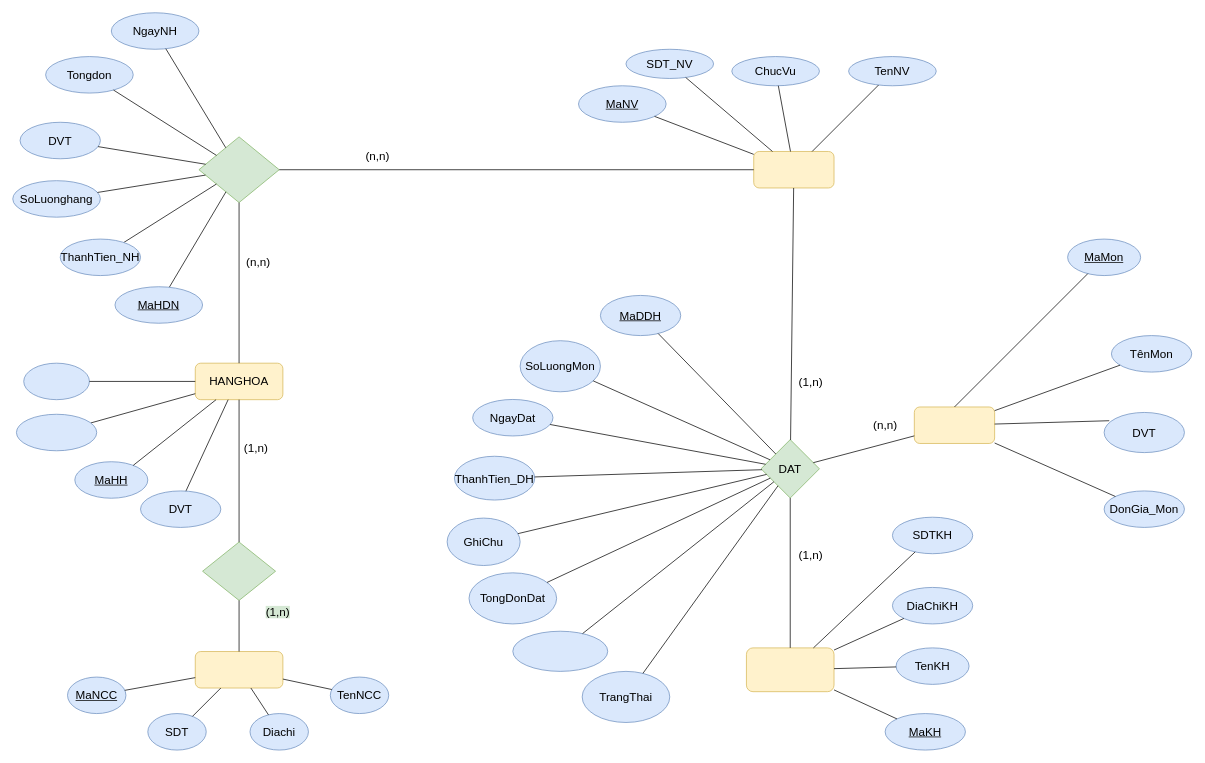
Some shapes in this 1205 by 763 pixel diagram are drawn without their labels. The centre of each missing label's shape, as x and y in pixels:
CUNG CAP: the point at 239,570
GiamGia: the point at 560,651
GiaNhap: the point at 56,432
KHACH: the point at 790,669
MONAN: the point at 954,424
NHACC: the point at 239,669
NHANVIEN: the point at 793,169
NHAP: the point at 238,169
TenHang: the point at 56,381
